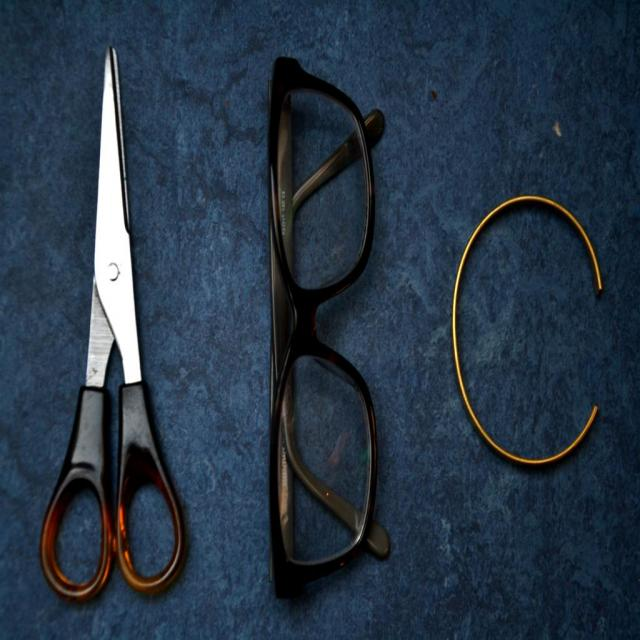scissor: (41, 44, 192, 605)
